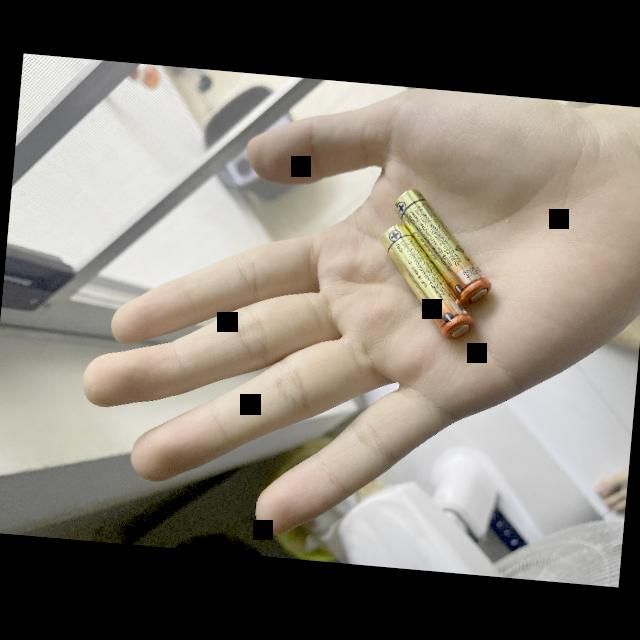battery: (391, 188, 490, 305), (377, 223, 474, 342)
